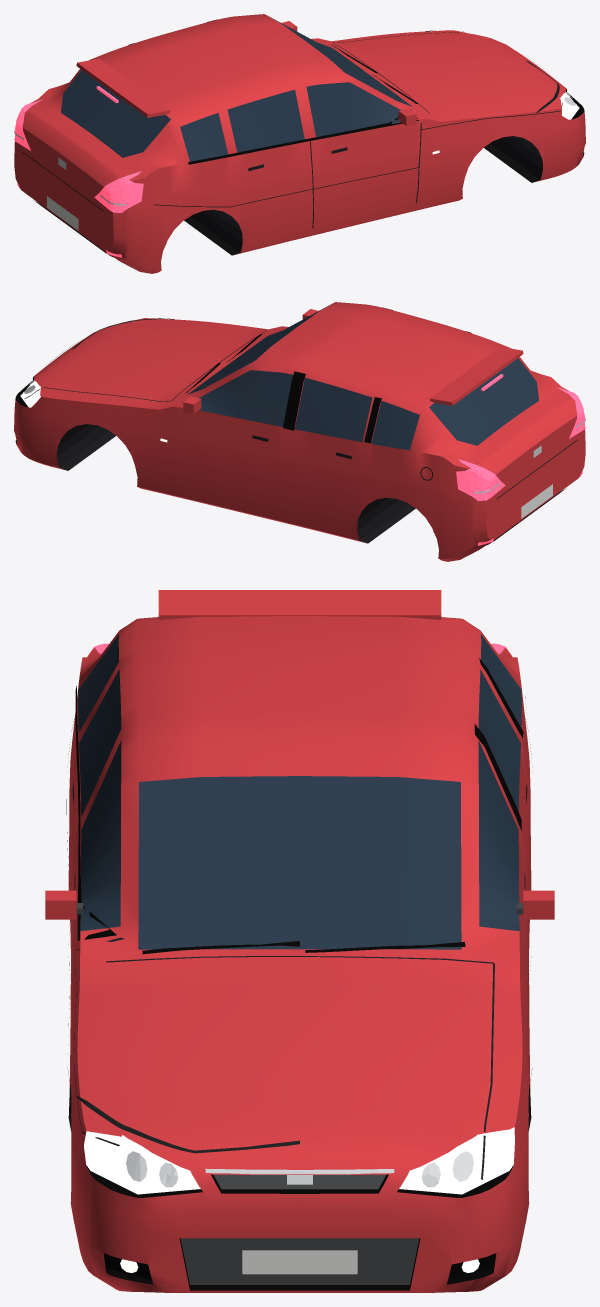
File: hyundai-i30-fd.glb
3 renders of one model, top to bottom at view 1: azimuth 30°, elevation 25°; view 2: azimuth 150°, elevation 25°; view 3: azimuth 270°, elevation 25°, orthographic. The views are drawn at different scales.
Visible parts, largest first — view 1: hyundai-i30-fd; view 2: hyundai-i30-fd; view 3: hyundai-i30-fd.
Boxes of the visible parts, left/top/right/bottom form: hyundai-i30-fd: left=14, top=14, right=585, bottom=273; hyundai-i30-fd: left=14, top=302, right=585, bottom=561; hyundai-i30-fd: left=45, top=590, right=554, bottom=1292.
Size of the model in its own units: 4.26 by 1.32 by 1.95.
